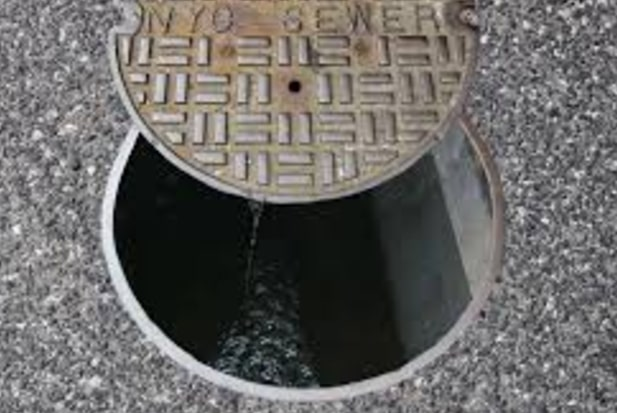open_manhole: (77, 129, 518, 389)
